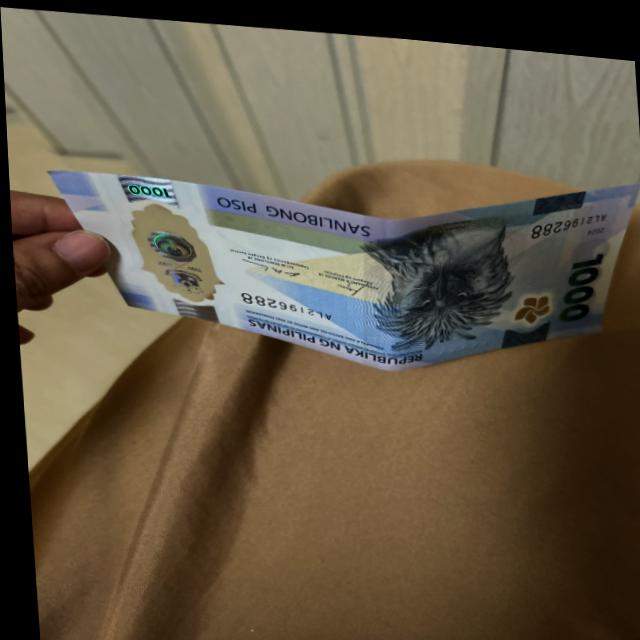clear_window: (128, 192, 222, 303)
eagle: (362, 220, 507, 336)
sampaguita: (509, 283, 553, 315)
